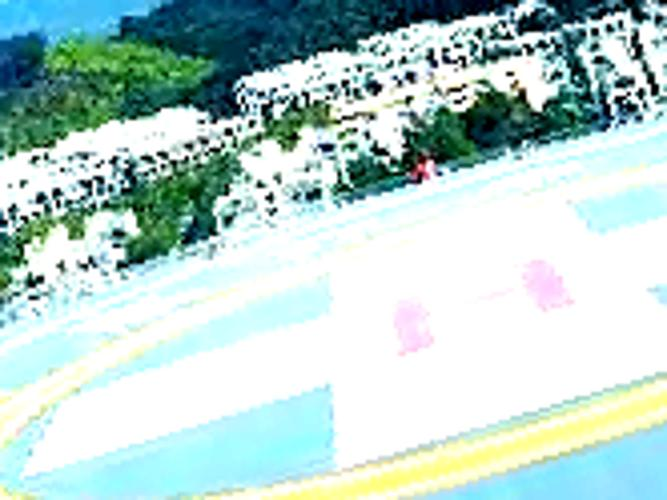Apron: (8, 151, 666, 500)
